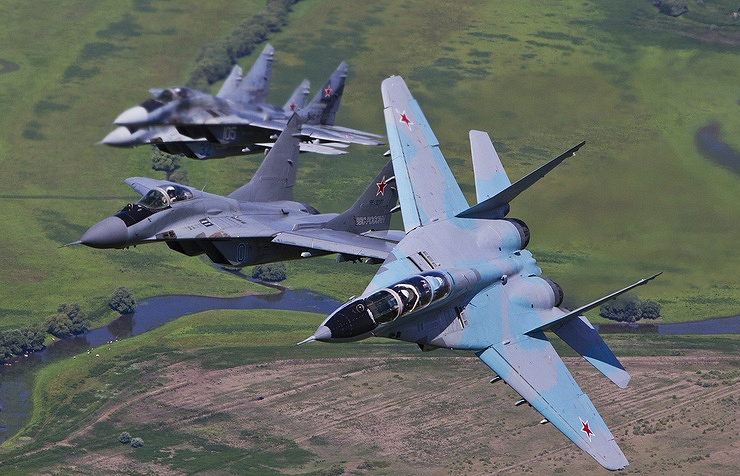Mig-29: (306, 78, 653, 451), (87, 154, 362, 281), (96, 55, 343, 160)
